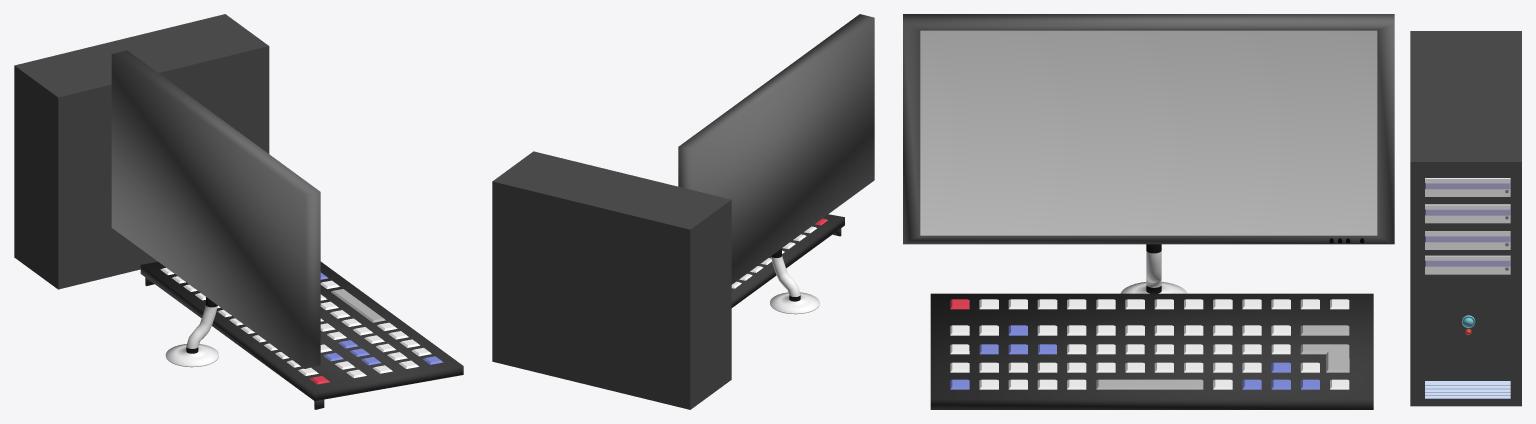
The model's file is computador.glb.
3 renders of one model, left to right at view 1: azimuth 30°, elevation 25°; view 2: azimuth 150°, elevation 25°; view 3: azimuth 270°, elevation 25°, orthographic. The views are drawn at different scales.
Parts seen in each view (by area): view 1: Cylinder.006, Cube.002, Cube.003, Cube.000, Cylinder; view 2: Cube.002, Cylinder.006, Cube.003, Cylinder, Cube.000; view 3: Cylinder.006, Cube.002, Cube.003, Cube.000, Cylinder.
Part boxes in pixels (x1,y1,x2,y2): Cylinder.006: [111, 50, 320, 368]; Cube.002: [14, 14, 269, 289]; Cube.003: [140, 261, 463, 409]; Cube.000: [160, 267, 443, 384]; Cylinder: [165, 297, 218, 367]; Cube.002: [492, 151, 731, 409]; Cylinder.006: [678, 14, 874, 284]; Cube.003: [731, 214, 844, 307]; Cylinder: [770, 248, 819, 314]; Cube.000: [731, 218, 827, 288]; Cylinder.006: [903, 14, 1394, 244]; Cube.002: [1410, 31, 1521, 406]; Cube.003: [930, 293, 1373, 409]; Cube.000: [950, 299, 1349, 389]; Cylinder: [1120, 244, 1187, 293].
Size of the model in its own units: 0.7986 by 0.807 by 1.55.
